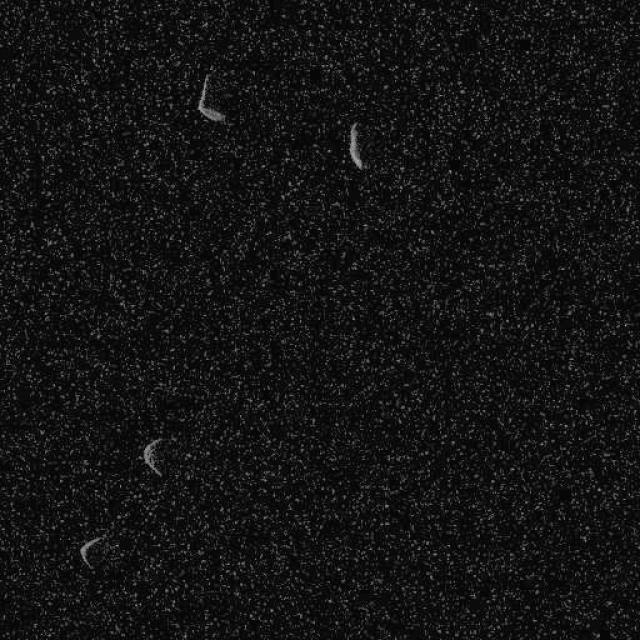D2: (196, 72, 226, 122), (141, 437, 165, 478), (78, 534, 104, 570), (347, 120, 365, 170)
